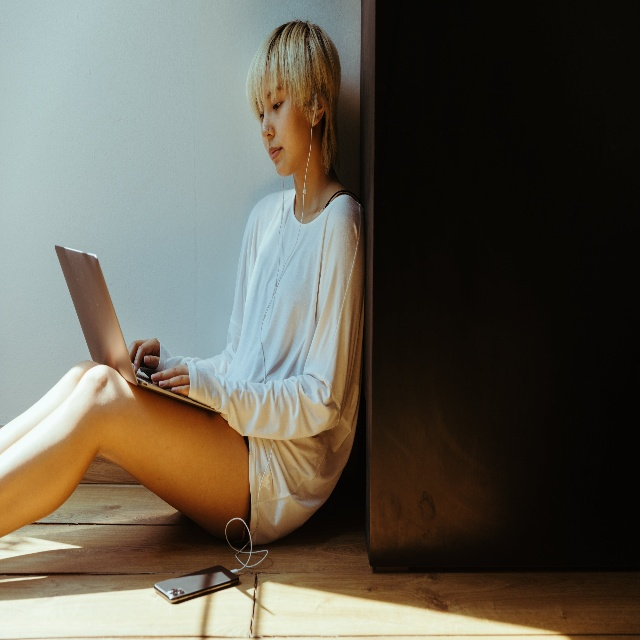Sin_guantes: (151, 362, 190, 397), (126, 336, 160, 376)
